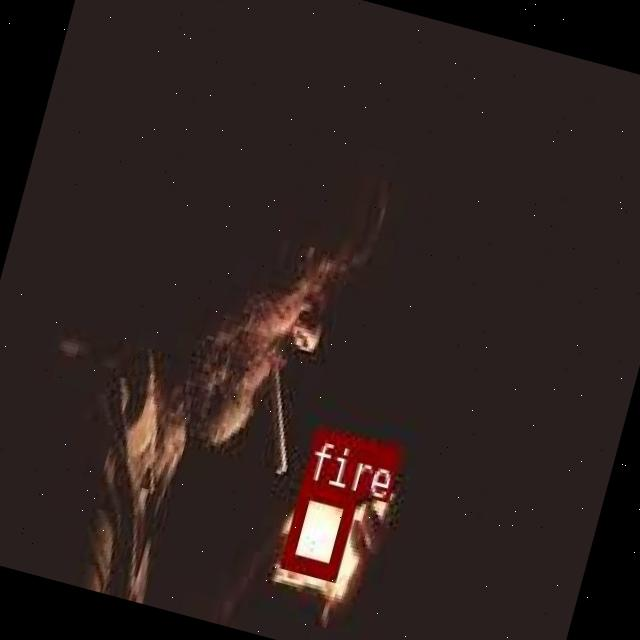fire: (279, 479, 354, 576)
